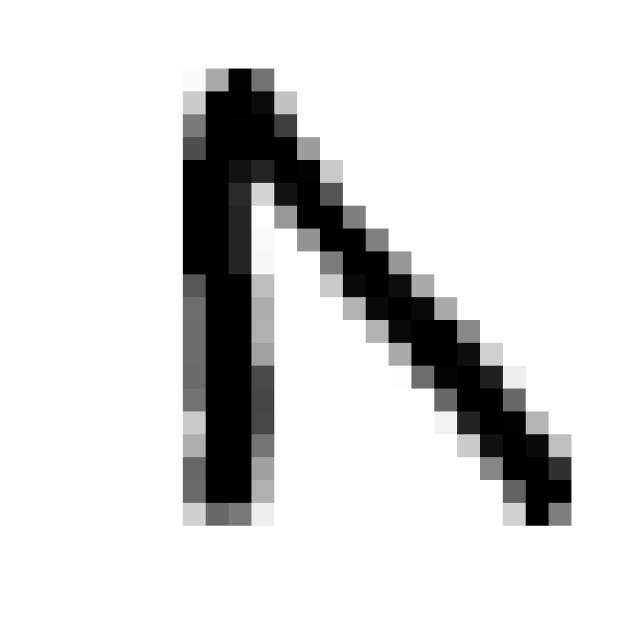8 -eight-: (148, 39, 588, 549)
